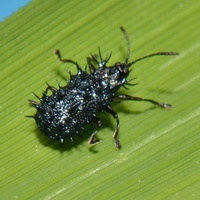insect: (27, 26, 178, 148)
